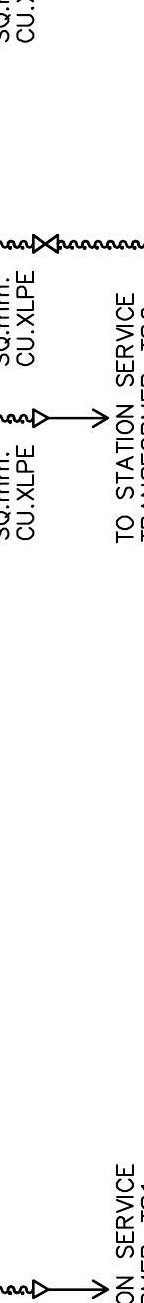terminator_single: (31, 406, 50, 429), (31, 1278, 49, 1300)
terminator_splicing_kits: (32, 233, 60, 255)
